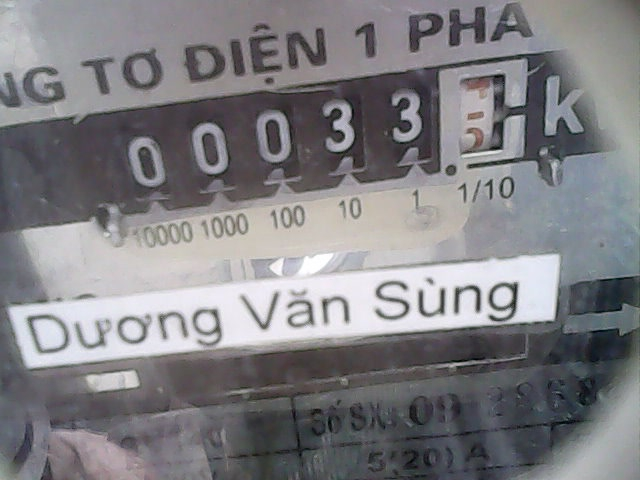phy_plate: (92, 58, 536, 201)
